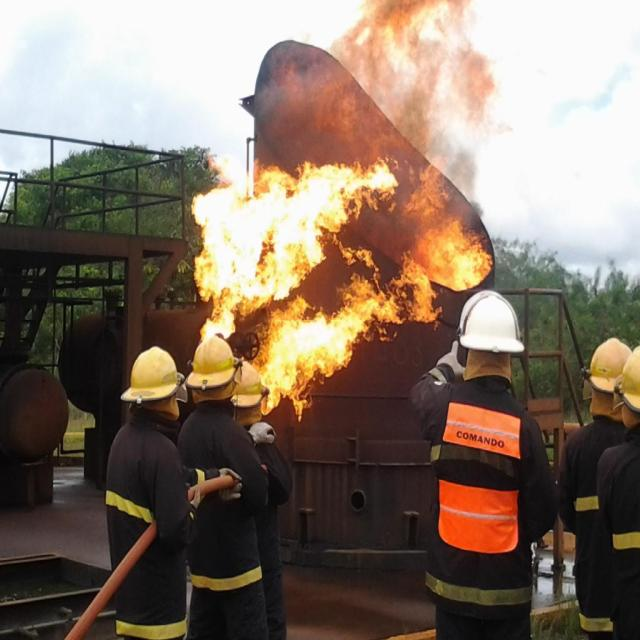fire: (189, 7, 483, 422)
other: (184, 330, 262, 414), (436, 476, 520, 554), (439, 394, 521, 460), (456, 282, 526, 356), (118, 336, 180, 412), (583, 323, 639, 406), (103, 483, 156, 529), (112, 609, 195, 634), (196, 569, 264, 589), (580, 606, 612, 632), (576, 497, 604, 514), (612, 529, 638, 547)
